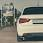car: (15, 6, 43, 42)
